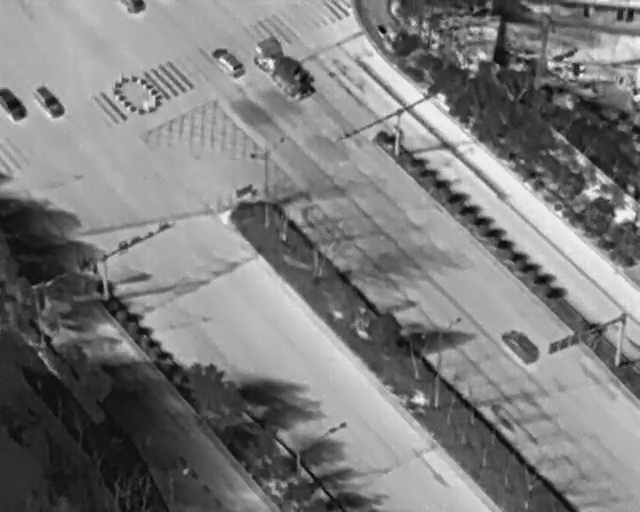Car: (245, 29, 323, 110), (498, 321, 545, 367), (209, 43, 249, 82), (31, 82, 67, 123), (0, 87, 27, 121)
